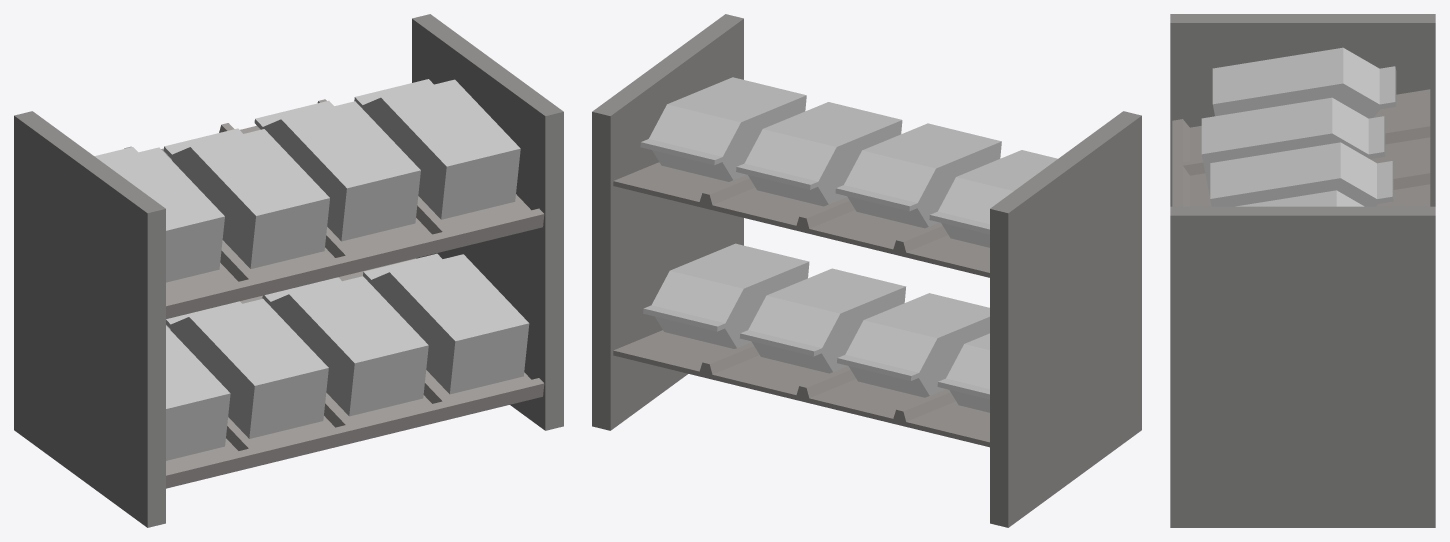
File: SM_Props_Interior_SuperMarket_Display_Mini_Preset_01.fbx
3 views of the same model, side by side, from view 1: azimuth 30°, elevation 25°; view 2: azimuth 150°, elevation 25°; view 3: azimuth 270°, elevation 25° (orthographic).
Visible parts, largest first — view 1: SM_Props_Interior_SuperMarket_Display_Mini_Preset_01, SM_Props_Interior_SuperMarket_Display_Mini_Preset_01_Product; view 2: SM_Props_Interior_SuperMarket_Display_Mini_Preset_01, SM_Props_Interior_SuperMarket_Display_Mini_Preset_01_Product; view 3: SM_Props_Interior_SuperMarket_Display_Mini_Preset_01, SM_Props_Interior_SuperMarket_Display_Mini_Preset_01_Product.
Boxes of the visible parts, x1,y1,x2,y2 form: SM_Props_Interior_SuperMarket_Display_Mini_Preset_01: [14, 14, 563, 527]; SM_Props_Interior_SuperMarket_Display_Mini_Preset_01_Product: [94, 79, 529, 460]; SM_Props_Interior_SuperMarket_Display_Mini_Preset_01: [592, 14, 1141, 527]; SM_Props_Interior_SuperMarket_Display_Mini_Preset_01_Product: [640, 77, 1057, 412]; SM_Props_Interior_SuperMarket_Display_Mini_Preset_01: [1170, 14, 1435, 527]; SM_Props_Interior_SuperMarket_Display_Mini_Preset_01_Product: [1201, 47, 1396, 206].
Size of the model in its own units: 90 by 65 by 50.
